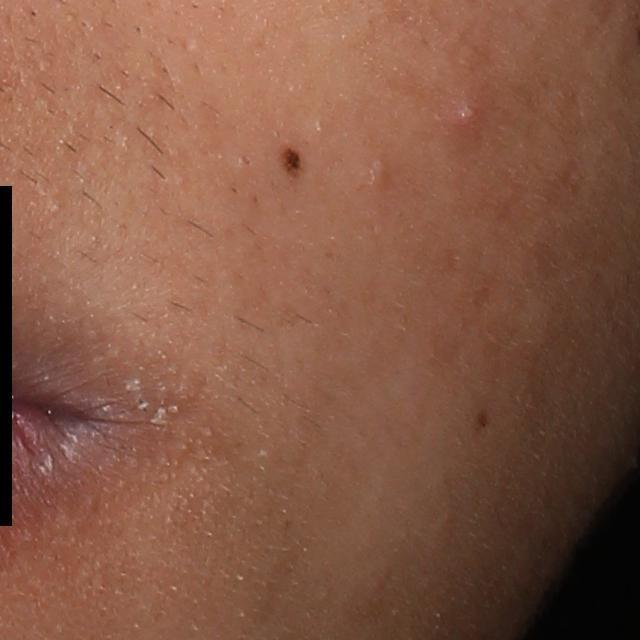comedo: (366, 155, 390, 185)
nevus: (274, 140, 302, 179), (476, 411, 489, 431)
papule: (446, 93, 489, 131)
